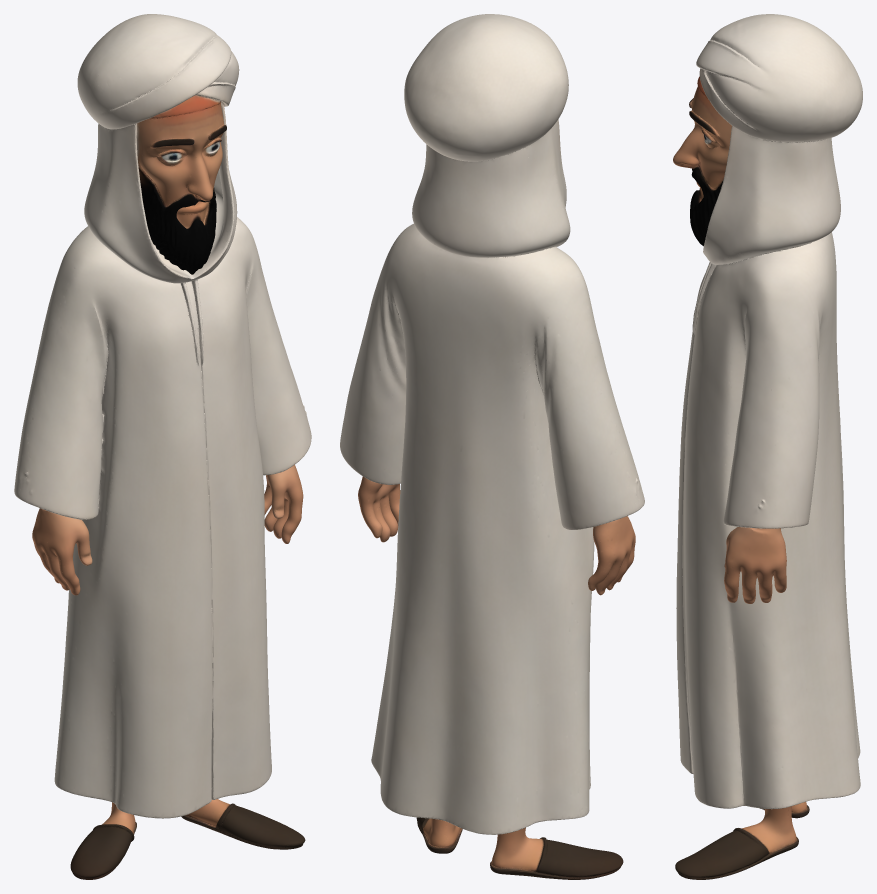
Rendered from fqih__base_basic_pbr.glb.
3 views of the same model, side by side, from view 1: azimuth 30°, elevation 25°; view 2: azimuth 150°, elevation 25°; view 3: azimuth 270°, elevation 25° (orthographic). The views are drawn at different scales.
Parts seen in each view (by area): view 1: model; view 2: model; view 3: model.
Boxes of the visible parts, <box> form: model: <box>14,14,311,879</box>; model: <box>340,14,644,879</box>; model: <box>673,14,862,879</box>.
Bounding box in the file's own units: 0.7012 × 1.9 × 0.4025.
Materials: 1 (1 with a texture image).
